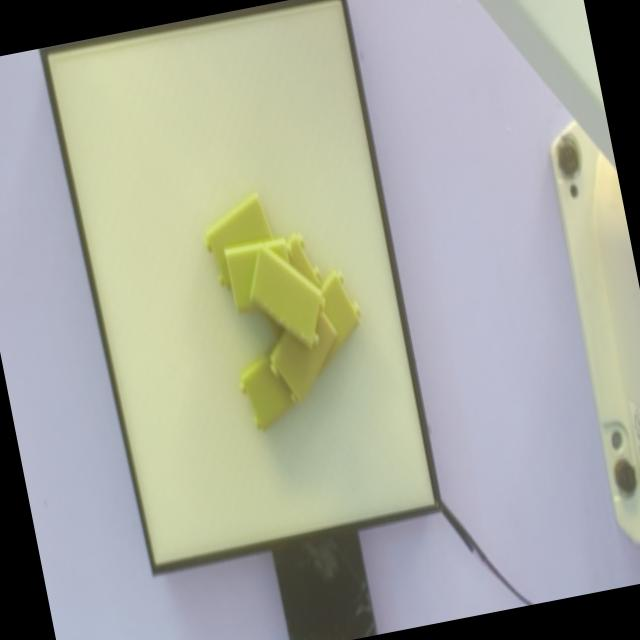bateria: (250, 244, 326, 352)
mesa: (40, 0, 443, 578)
